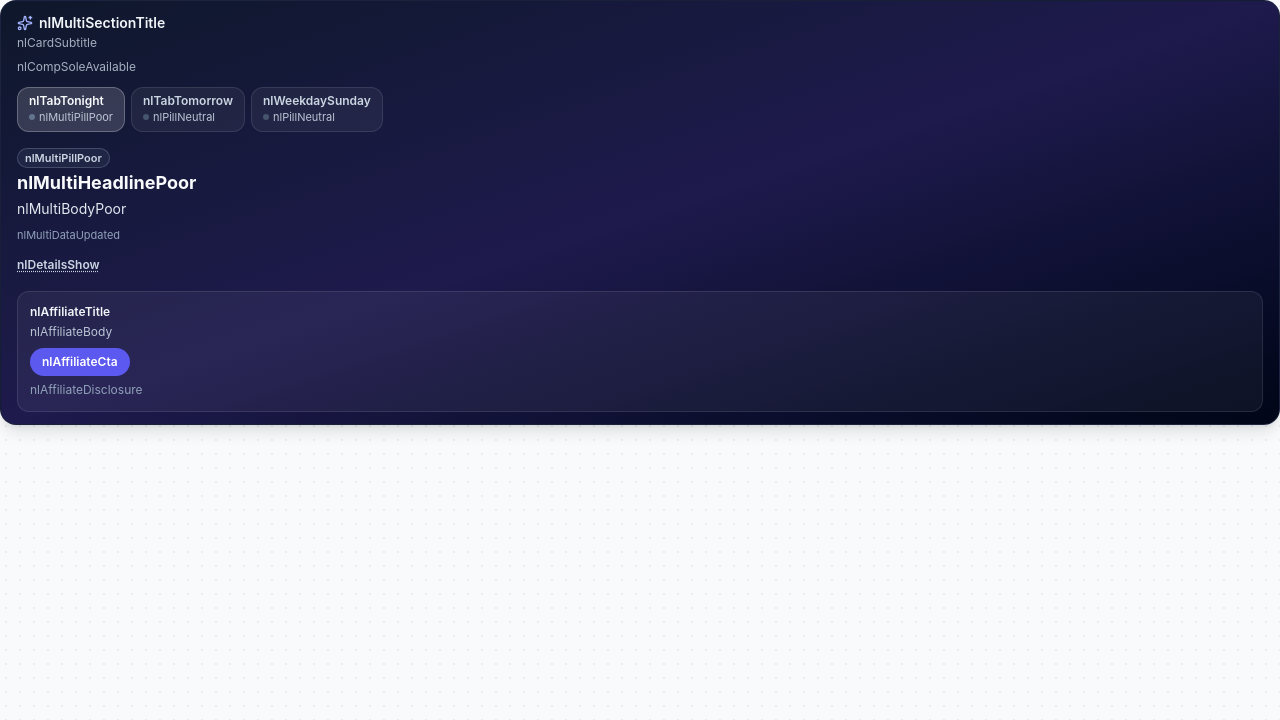
NorthernLightsThreeNight — Ticket #431: Free gets the same full access as Pro › Free sees the same truthful all-poor copy and details toggle as Pro, with no upsell block
Expected: the element with test id "nl3-all-poor" is shown, [17,148,196,273]
Click the button "nlDetailsShow" at (58, 265), box [17,257,100,273]
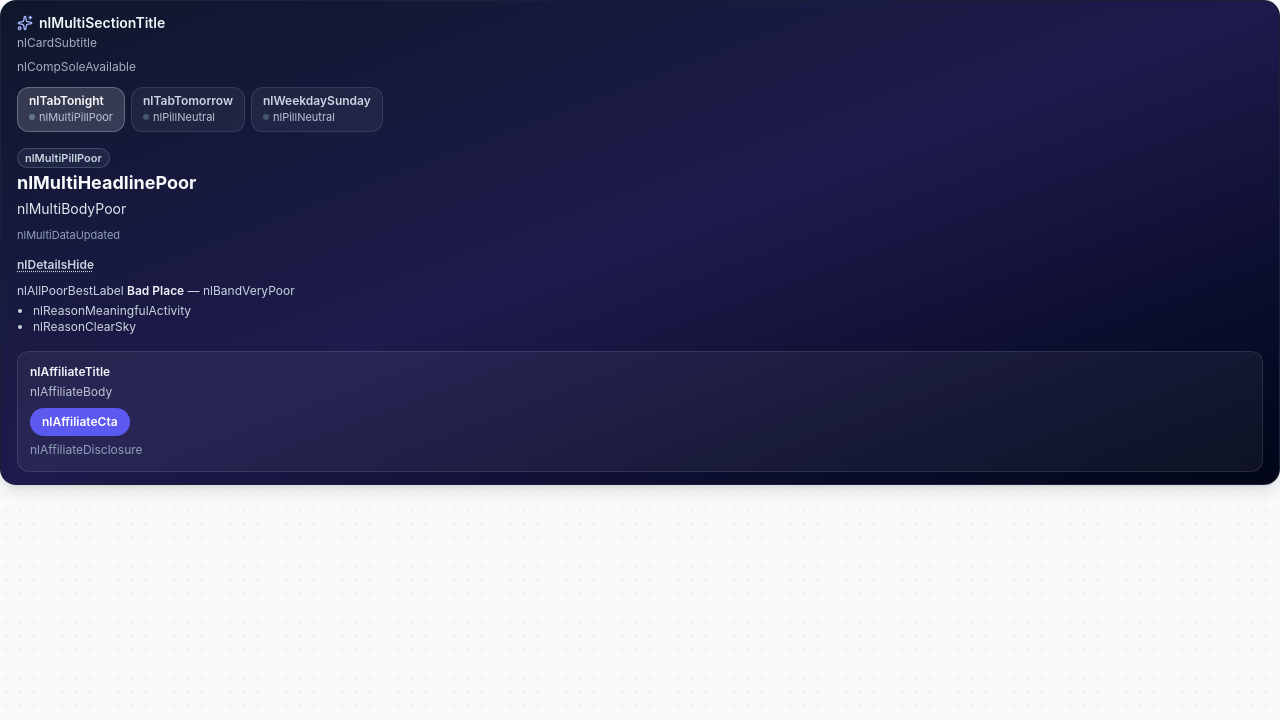
Expected: the text "Bad Place" is shown, [127,283,184,298]
